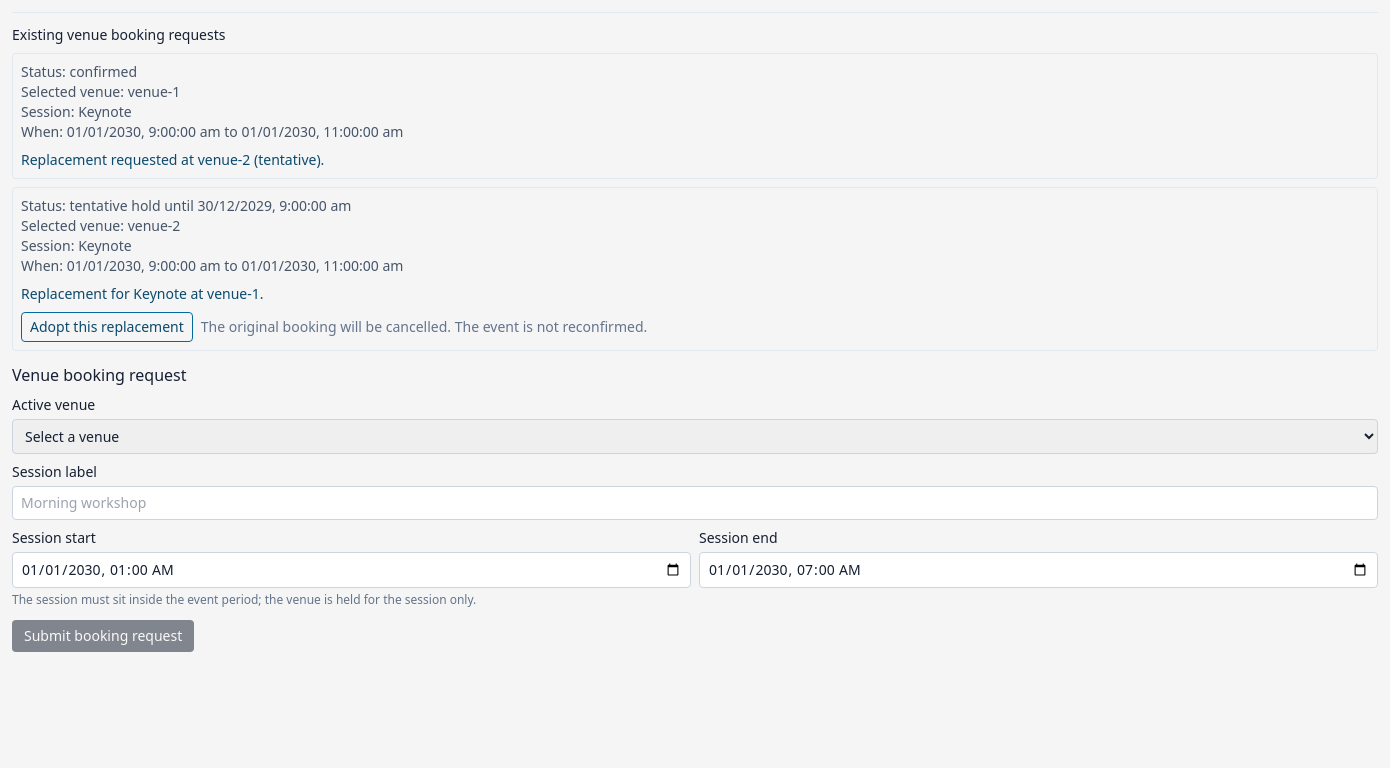
Test: SCRUM-133 adopt a replacement › AC4: a refused adoption says why and changes nothing on screen
Click the button with aria-label "Adopt this replacement for Keynote".
click(107, 327)  # box [21,312,193,342]
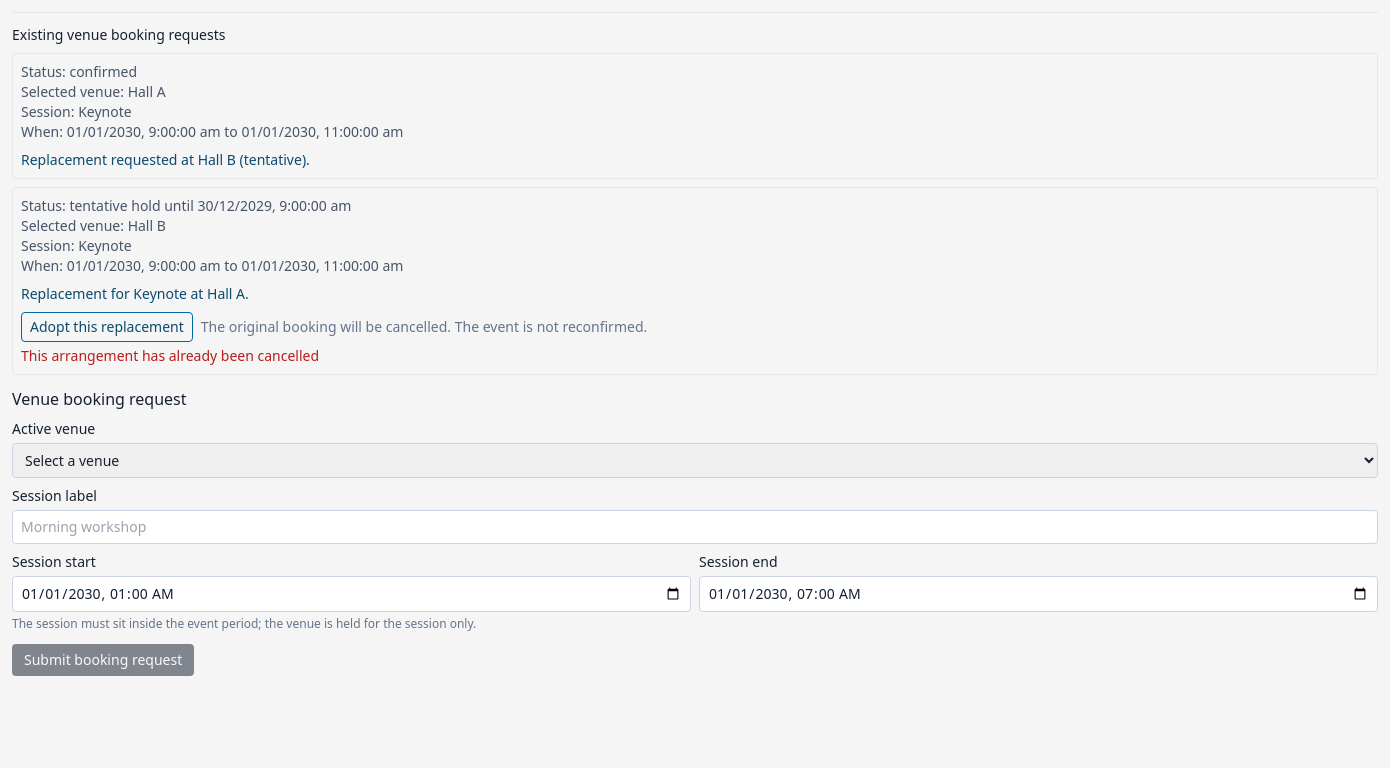
Now the message reads "This arrangement has already been cancelled", box [21,346,319,365]
